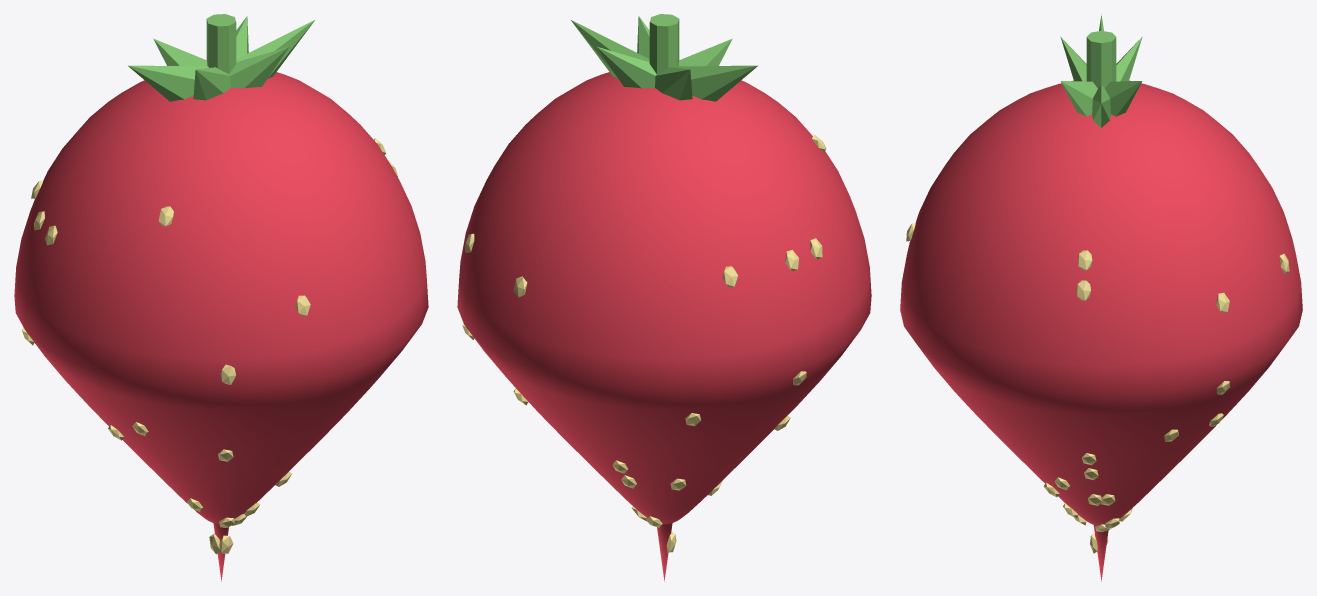
File: cilek.glb
3 views of the same model, side by side, from view 1: azimuth 30°, elevation 25°; view 2: azimuth 150°, elevation 25°; view 3: azimuth 270°, elevation 25° (orthographic). The views are drawn at different scales.
Visible parts, largest first — view 1: Cilek; view 2: Cilek; view 3: Cilek.
Boxes of the visible parts, <box> form: Cilek: <box>14,14,428,581</box>; Cilek: <box>457,14,871,581</box>; Cilek: <box>900,14,1302,581</box>.
Size of the model in its own units: 0.6362 by 0.95 by 0.6362.
